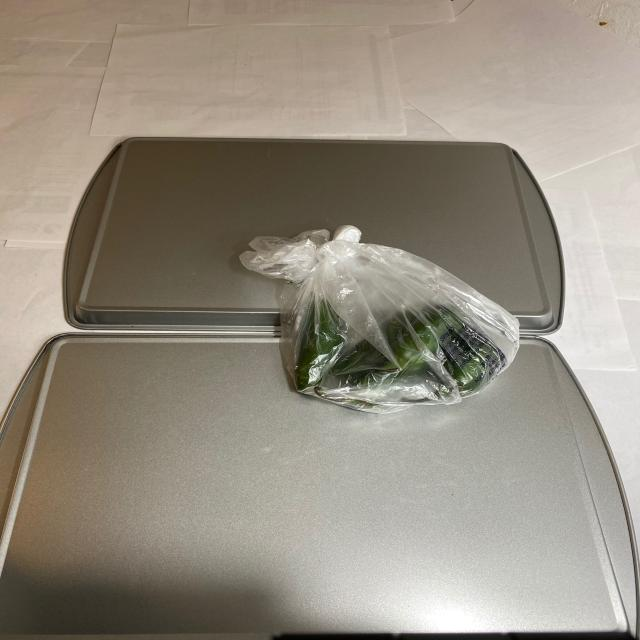chilli: (232, 231, 529, 406)
